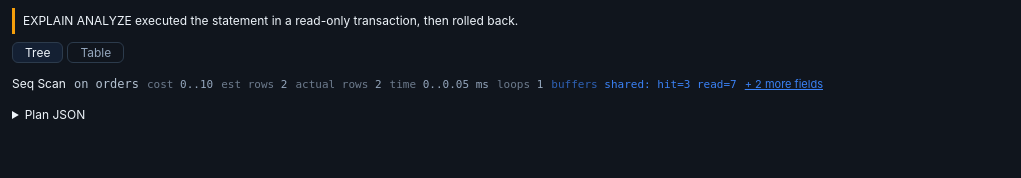
Test case: ExplainView › renders buffers and uncurated node fields honestly in the tree
expect the list named "Query plan tree" shows "buffers": met, box x1=551 y1=78 x2=598 y2=91
expect the list named "Query plan tree" shows "shared: hit=3 read=7": met, box x1=604 y1=78 x2=737 y2=91
Click the button "+ 2 more fields".
click(784, 84)  # box x1=745 y1=77 x2=823 y2=91
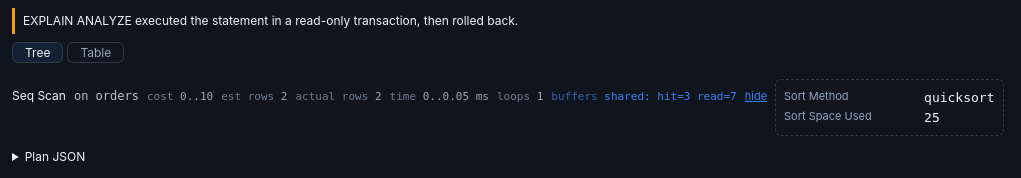
expect the list named "Query plan tree" shows "Sort Method": met, box x1=784 y1=89 x2=849 y2=103
expect the list named "Query plan tree" shows "quicksort": met, box x1=924 y1=90 x2=995 y2=105
